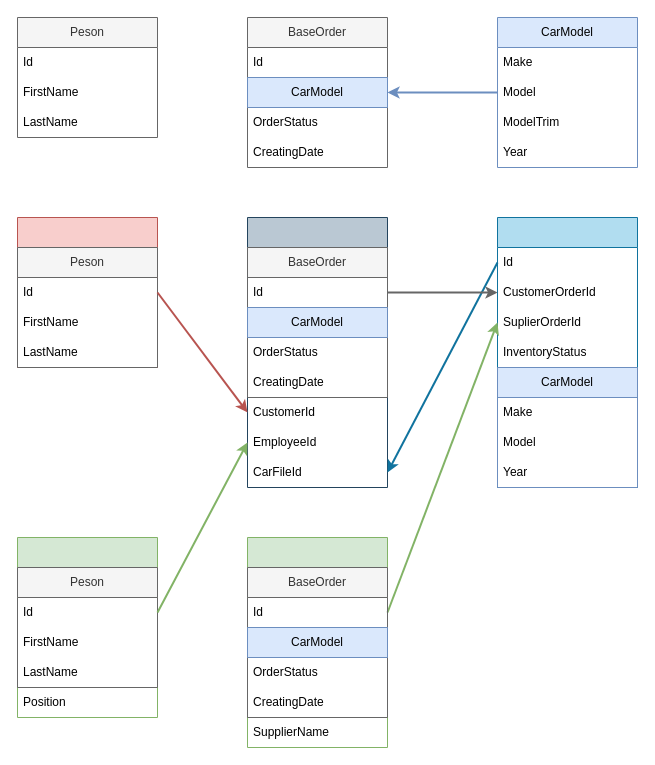
This 655x765 diagram has some shape labels left out. Here are the shapes that lost their labels. From the top down, the box of each, then its label:
(16, 216, 158, 368): Customer [DB]
(246, 216, 388, 488): CunsomerOrder
(496, 216, 638, 488): CarFile
(16, 536, 158, 718): Employee [DB]
(246, 536, 388, 748): SupplierOrder
